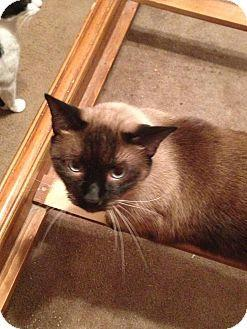siamese: (38, 85, 183, 224)
